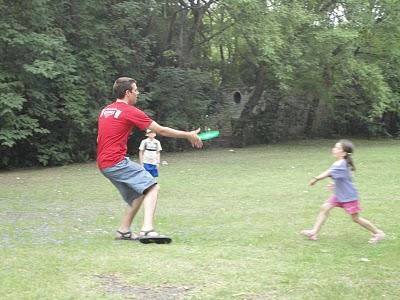person: (96, 76, 203, 245)
